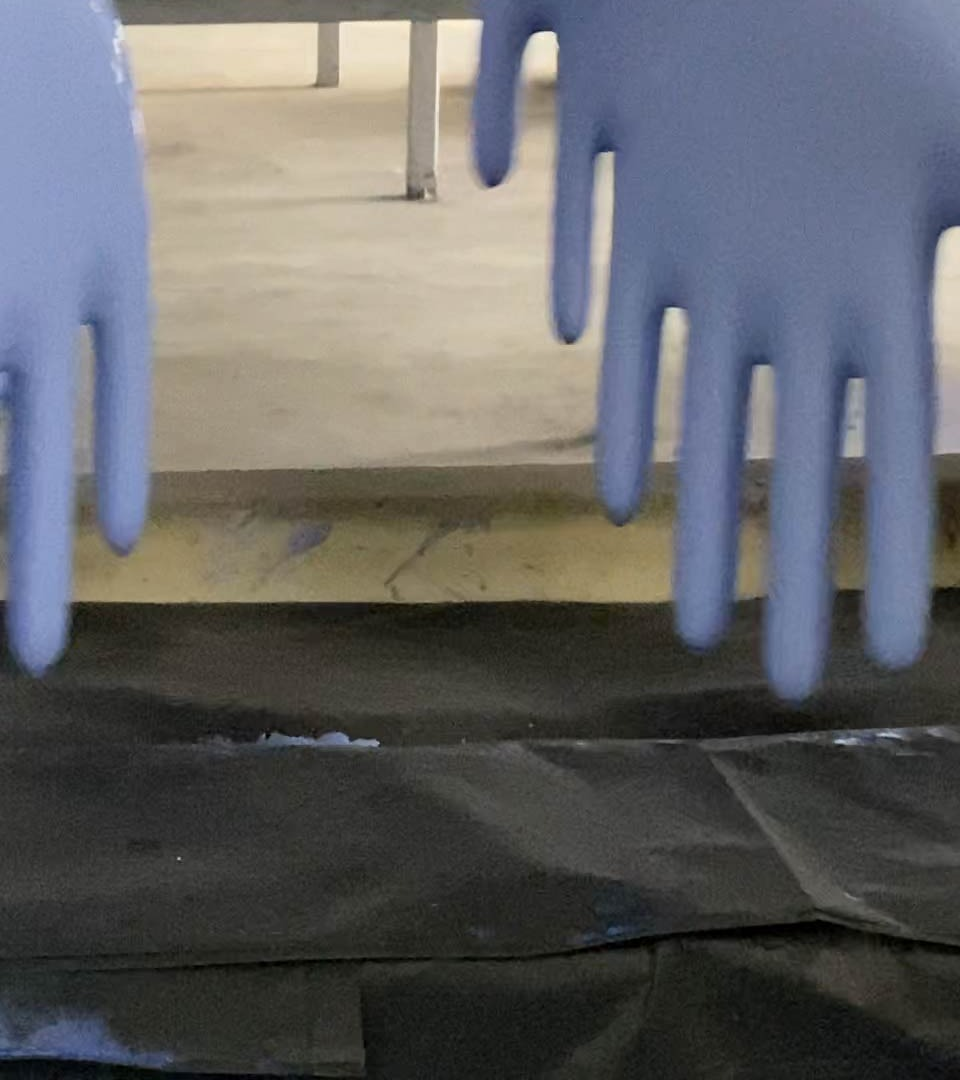glove: (578, 4, 960, 699)
